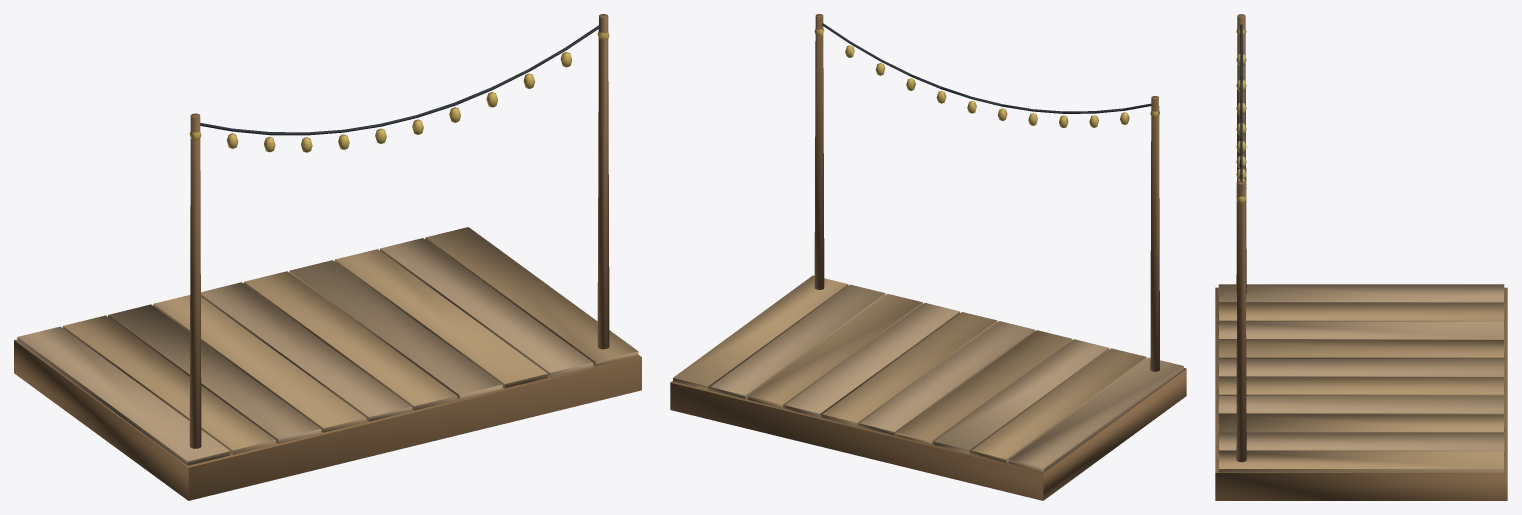
The model's file is busk_stage_low.glb.
3 views of the same model, side by side, from view 1: azimuth 30°, elevation 25°; view 2: azimuth 150°, elevation 25°; view 3: azimuth 270°, elevation 25° (orthographic). The views are drawn at different scales.
Size of the model in its own units: 3 by 2.33 by 2.
